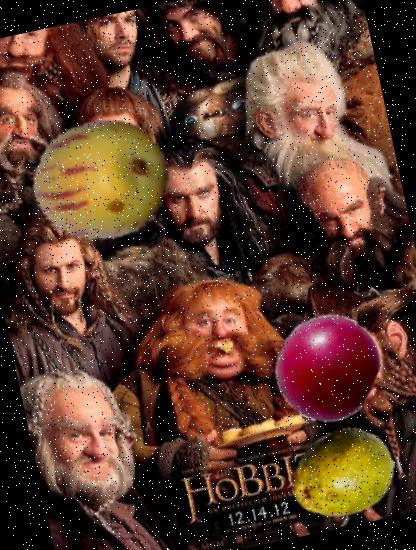Cherry: (263, 303, 392, 432)
Guava: (279, 410, 405, 536)
Pepino: (22, 100, 181, 260)
